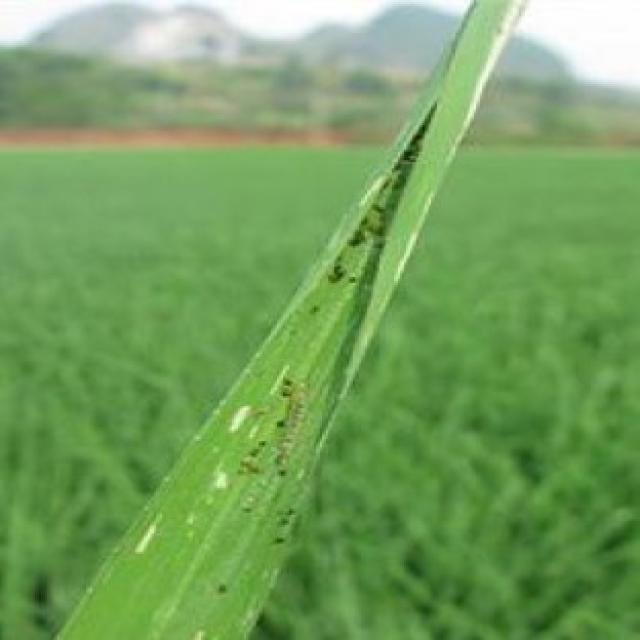rice leaf roller: (328, 119, 427, 285), (235, 371, 308, 497), (268, 501, 305, 542)
